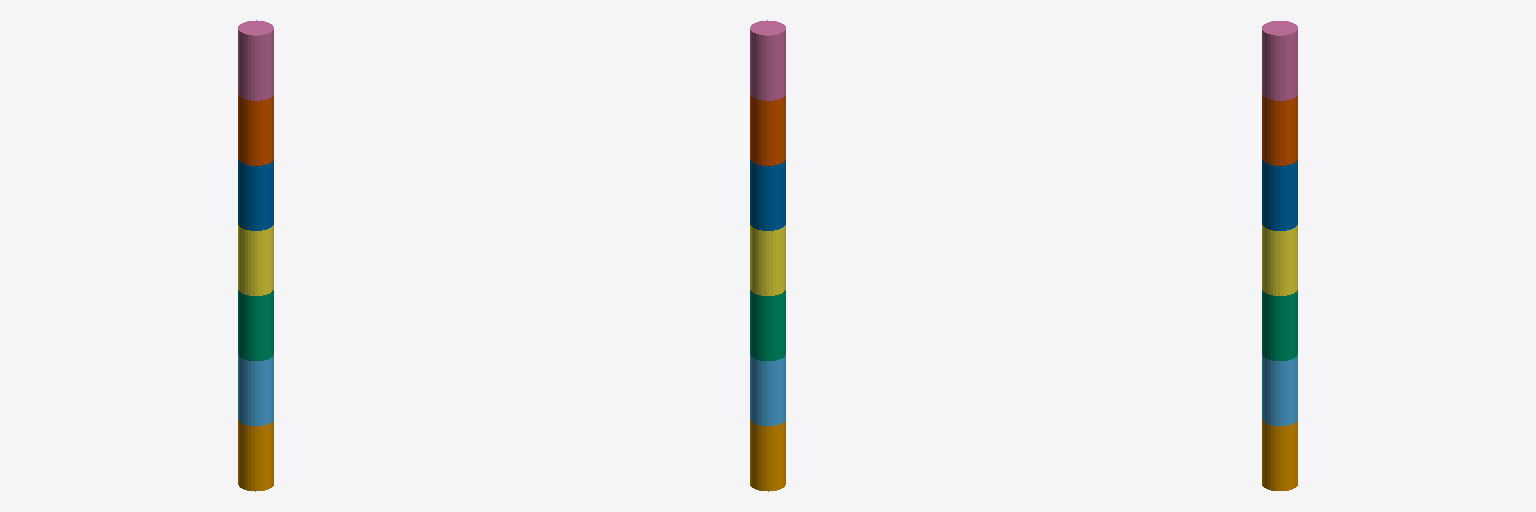
URDF robot description (arm_a):
<?xml version="1.0"?>
<robot name="arm_a">
  <link name="base_link">
    <visual>
      <geometry><cylinder radius="0.05" length="0.2"/></geometry>
      <origin xyz="0 0 0.1"/>
    </visual>
    <collision>
      <geometry><cylinder radius="0.05" length="0.2"/></geometry>
      <origin xyz="0 0 0.1"/>
    </collision>
    <inertial>
      <mass value="1.0"/>
      <inertia ixx="0.01" iyy="0.01" izz="0.01" ixy="0" ixz="0" iyz="0"/>
    </inertial>
  </link>
  <link name="link_1">
    <visual>
      <geometry><cylinder radius="0.05" length="0.2"/></geometry>
      <origin xyz="0 0 0.1"/>
    </visual>
    <collision>
      <geometry><cylinder radius="0.05" length="0.2"/></geometry>
      <origin xyz="0 0 0.1"/>
    </collision>
    <inertial>
      <mass value="1.0"/>
      <inertia ixx="0.01" iyy="0.01" izz="0.01" ixy="0" ixz="0" iyz="0"/>
    </inertial>
  </link>
  <link name="link_2">
    <visual>
      <geometry><cylinder radius="0.05" length="0.2"/></geometry>
      <origin xyz="0 0 0.1"/>
    </visual>
    <collision>
      <geometry><cylinder radius="0.05" length="0.2"/></geometry>
      <origin xyz="0 0 0.1"/>
    </collision>
    <inertial>
      <mass value="1.0"/>
      <inertia ixx="0.01" iyy="0.01" izz="0.01" ixy="0" ixz="0" iyz="0"/>
    </inertial>
  </link>
  <link name="link_3">
    <visual>
      <geometry><cylinder radius="0.05" length="0.2"/></geometry>
      <origin xyz="0 0 0.1"/>
    </visual>
    <collision>
      <geometry><cylinder radius="0.05" length="0.2"/></geometry>
      <origin xyz="0 0 0.1"/>
    </collision>
    <inertial>
      <mass value="1.0"/>
      <inertia ixx="0.01" iyy="0.01" izz="0.01" ixy="0" ixz="0" iyz="0"/>
    </inertial>
  </link>
  <link name="link_4">
    <visual>
      <geometry><cylinder radius="0.05" length="0.2"/></geometry>
      <origin xyz="0 0 0.1"/>
    </visual>
    <collision>
      <geometry><cylinder radius="0.05" length="0.2"/></geometry>
      <origin xyz="0 0 0.1"/>
    </collision>
    <inertial>
      <mass value="1.0"/>
      <inertia ixx="0.01" iyy="0.01" izz="0.01" ixy="0" ixz="0" iyz="0"/>
    </inertial>
  </link>
  <link name="link_5">
    <visual>
      <geometry><cylinder radius="0.05" length="0.2"/></geometry>
      <origin xyz="0 0 0.1"/>
    </visual>
    <collision>
      <geometry><cylinder radius="0.05" length="0.2"/></geometry>
      <origin xyz="0 0 0.1"/>
    </collision>
    <inertial>
      <mass value="1.0"/>
      <inertia ixx="0.01" iyy="0.01" izz="0.01" ixy="0" ixz="0" iyz="0"/>
    </inertial>
  </link>
  <link name="link_6">
    <visual>
      <geometry><cylinder radius="0.05" length="0.2"/></geometry>
      <origin xyz="0 0 0.1"/>
    </visual>
    <collision>
      <geometry><cylinder radius="0.05" length="0.2"/></geometry>
      <origin xyz="0 0 0.1"/>
    </collision>
    <inertial>
      <mass value="1.0"/>
      <inertia ixx="0.01" iyy="0.01" izz="0.01" ixy="0" ixz="0" iyz="0"/>
    </inertial>
  </link>
  <joint name="j1" type="revolute">
    <parent link="base_link"/>
    <child link="link_1"/>
    <origin xyz="0 0 0.2" rpy="0 0 0"/>
    <axis xyz="0 0 1"/>
    <limit lower="-3.14159" upper="3.14159" effort="50" velocity="2.0"/>
  </joint>
  <joint name="j2" type="revolute">
    <parent link="link_1"/>
    <child link="link_2"/>
    <origin xyz="0 0 0.2" rpy="0 0 0"/>
    <axis xyz="0 1 0"/>
    <limit lower="-3.14159" upper="3.14159" effort="50" velocity="2.0"/>
  </joint>
  <joint name="j3" type="revolute">
    <parent link="link_2"/>
    <child link="link_3"/>
    <origin xyz="0 0 0.2" rpy="0 0 0"/>
    <axis xyz="0 1 0"/>
    <limit lower="-3.14159" upper="3.14159" effort="50" velocity="2.0"/>
  </joint>
  <joint name="j4" type="revolute">
    <parent link="link_3"/>
    <child link="link_4"/>
    <origin xyz="0 0 0.2" rpy="0 0 0"/>
    <axis xyz="0 1 0"/>
    <limit lower="-3.14159" upper="3.14159" effort="50" velocity="2.0"/>
  </joint>
  <joint name="j5" type="revolute">
    <parent link="link_4"/>
    <child link="link_5"/>
    <origin xyz="0 0 0.2" rpy="0 0 0"/>
    <axis xyz="0 0 1"/>
    <limit lower="-3.14159" upper="3.14159" effort="50" velocity="2.0"/>
  </joint>
  <joint name="j6" type="revolute">
    <parent link="link_5"/>
    <child link="link_6"/>
    <origin xyz="0 0 0.2" rpy="0 0 0"/>
    <axis xyz="0 1 0"/>
    <limit lower="-3.14159" upper="3.14159" effort="50" velocity="2.0"/>
  </joint>
</robot>

--- Render facts (derived) ---
The picture shows the robot from 3 angles, left to right: view 1: azimuth 30°, elevation 25°; view 2: azimuth 150°, elevation 25°; view 3: azimuth 270°, elevation 25°; orthographic projection.
Robot: arm_a — 7 links, 6 joints (6 revolute); root link base_link; default pose: every joint at zero.
Visible links, largest first — view 1: link_6, link_2, base_link, link_3, link_5, link_1, link_4; view 2: link_6, link_2, base_link, link_3, link_5, link_1, link_4; view 3: link_6, base_link, link_1, link_3, link_4, link_2, link_5.
Link boxes in pixels (box(x1,y1,x2,y2)): link_6: box(238, 20, 273, 100); link_2: box(238, 290, 273, 360); base_link: box(238, 420, 273, 491); link_3: box(238, 225, 273, 295); link_5: box(238, 95, 273, 165); link_1: box(238, 355, 273, 425); link_4: box(238, 160, 273, 230); link_6: box(750, 20, 785, 100); link_2: box(750, 290, 785, 360); base_link: box(750, 420, 785, 491); link_3: box(750, 225, 785, 295); link_5: box(750, 95, 785, 165); link_1: box(750, 355, 785, 425); link_4: box(750, 160, 785, 230); link_6: box(1262, 21, 1297, 100); base_link: box(1262, 420, 1297, 490); link_1: box(1262, 355, 1297, 425); link_3: box(1262, 225, 1297, 295); link_4: box(1262, 160, 1297, 230); link_2: box(1262, 290, 1297, 360); link_5: box(1262, 95, 1297, 165).
Bounding box of the posed robot: 0.1 × 0.1 × 1.4 m (x, y, z).
Geometry: primitives only (box / cylinder / sphere), no mesh files.
